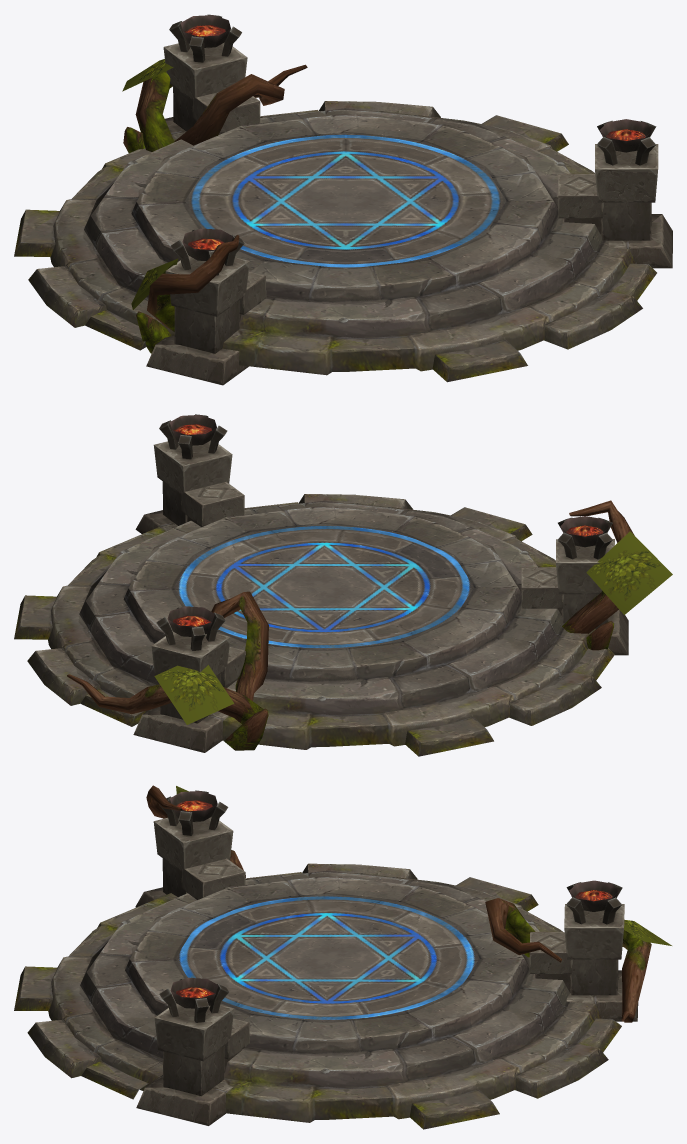
Rendered from building_yewai_guanka01jitan.FBX.
3 views of the same model, one above another, from view 1: azimuth 30°, elevation 25°; view 2: azimuth 150°, elevation 25°; view 3: azimuth 270°, elevation 25° (orthographic). The views are drawn at different scales.
Parts seen in each view (by area): view 1: building_yewai_guanka01jitan; view 2: building_yewai_guanka01jitan; view 3: building_yewai_guanka01jitan.
Boxes of the visible parts, left/top/right/bottom form: building_yewai_guanka01jitan: left=14, top=14, right=672, bottom=385; building_yewai_guanka01jitan: left=14, top=414, right=672, bottom=756; building_yewai_guanka01jitan: left=14, top=785, right=671, bottom=1129.
Size of the model in its own units: 10.42 by 11.07 by 2.34.
